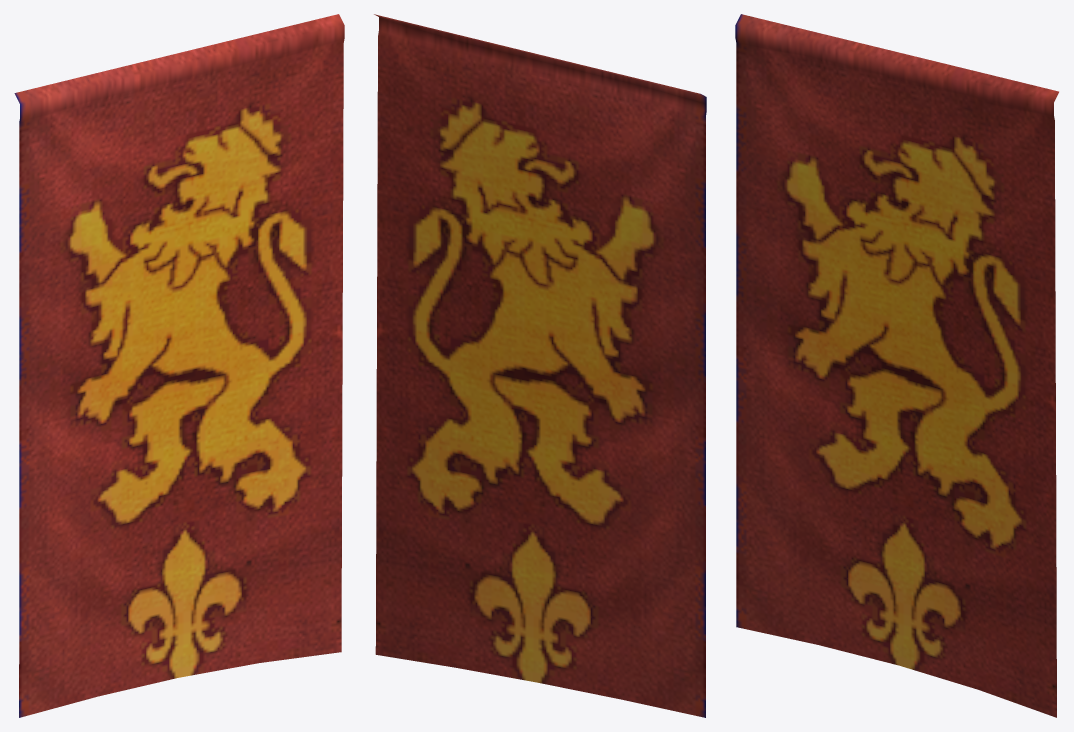
The model's file is english_banner.obj.
3 views of the same model, side by side, from view 1: azimuth 30°, elevation 25°; view 2: azimuth 150°, elevation 25°; view 3: azimuth 330°, elevation 25° (orthographic). The views are drawn at different scales.
Parts seen in each view (by area): view 1: GenMesh.002; view 2: GenMesh.002; view 3: GenMesh.002.
Part boxes in pixels (bbox=[...]): GenMesh.002: bbox=[14, 14, 344, 717]; GenMesh.002: bbox=[374, 14, 706, 717]; GenMesh.002: bbox=[735, 14, 1058, 717].
Bounding box in the file's own units: 1.7 × 3.19 × 0.0519.
